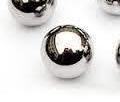ironball: (40, 20, 96, 84), (7, 0, 61, 26), (111, 25, 119, 88), (92, 0, 119, 15)
